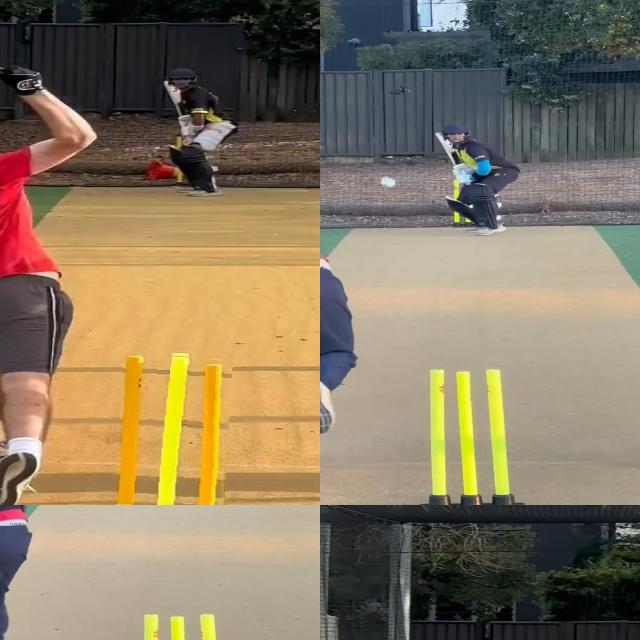Cricket ball: (379, 175, 397, 188)
Stumps: (115, 351, 232, 505), (420, 365, 519, 505)
